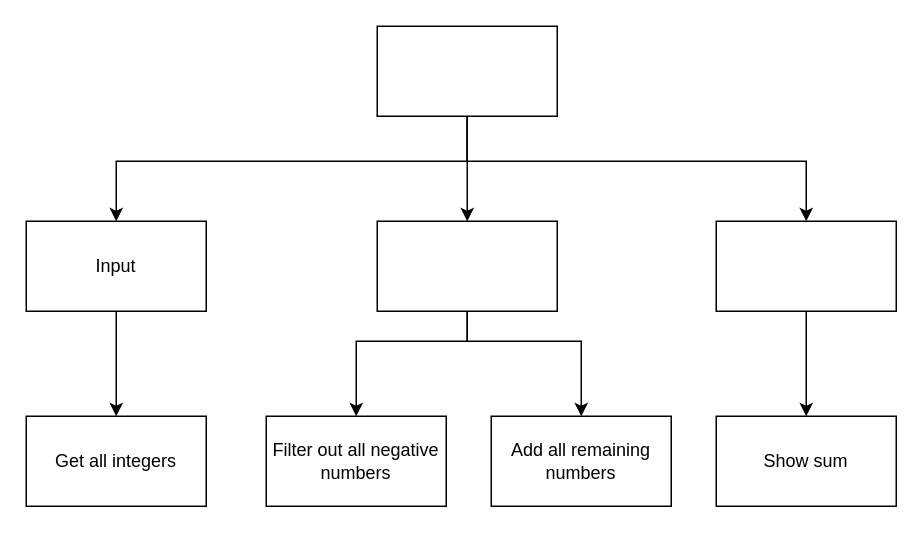
Some shapes in this 923 by 533 pixel diagram are drawn without their labels. The shapes that lost their labels are listed below. From the top down, each one's centre as x and y in pixels, then its label:
pixel 466 70: Sum of positive integers
pixel 466 265: Process
pixel 805 265: Output
